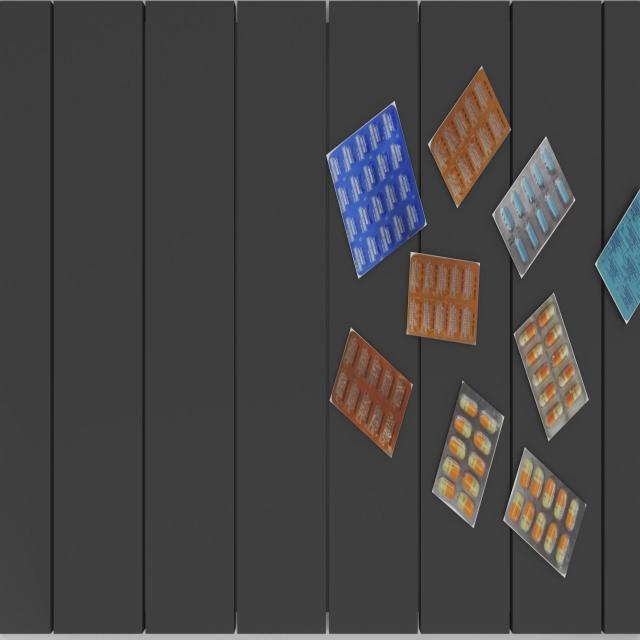blister: (321, 100, 428, 282), (427, 55, 512, 212), (512, 287, 592, 443), (432, 366, 505, 534), (328, 324, 415, 464), (493, 135, 575, 278), (502, 446, 588, 581), (403, 248, 482, 351), (595, 176, 640, 324)
